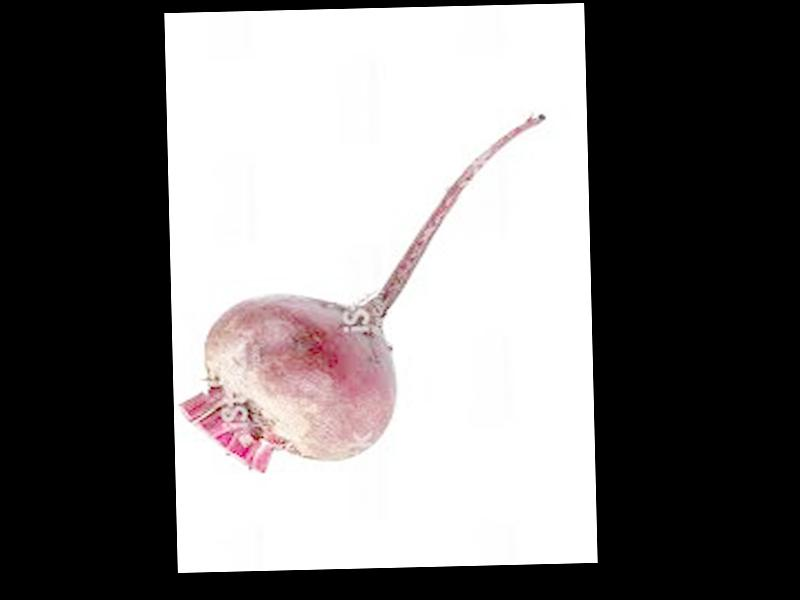Beet: (171, 113, 552, 472)
